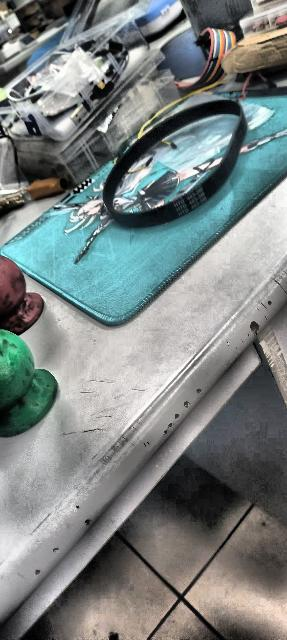green: (0, 331, 57, 434)
red: (0, 247, 42, 325)
